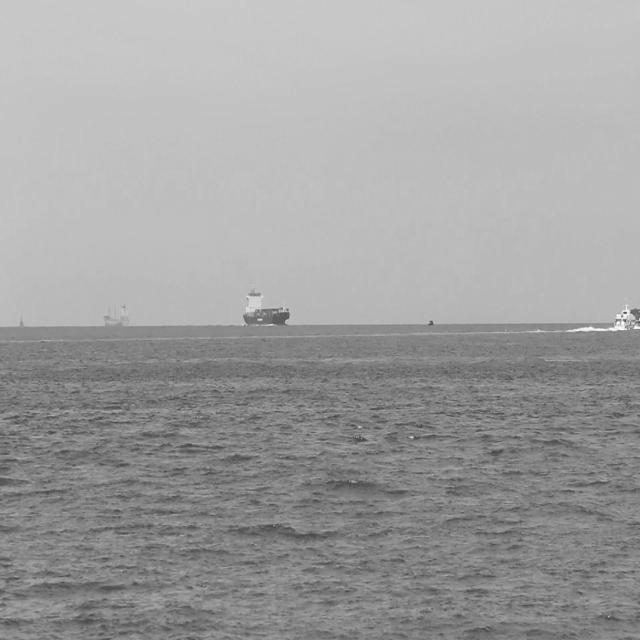ship: (241, 278, 291, 330), (101, 294, 133, 328), (612, 296, 640, 334)
